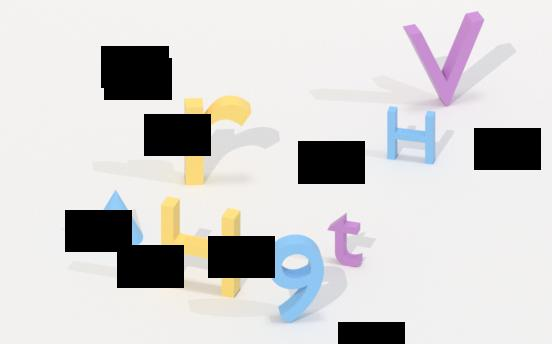9: (266, 233, 327, 327), (325, 210, 368, 272)
H-hoa: (157, 193, 244, 300), (382, 102, 441, 167)
R: (180, 90, 254, 191)
non: (85, 185, 147, 257)
v: (401, 8, 486, 109)
